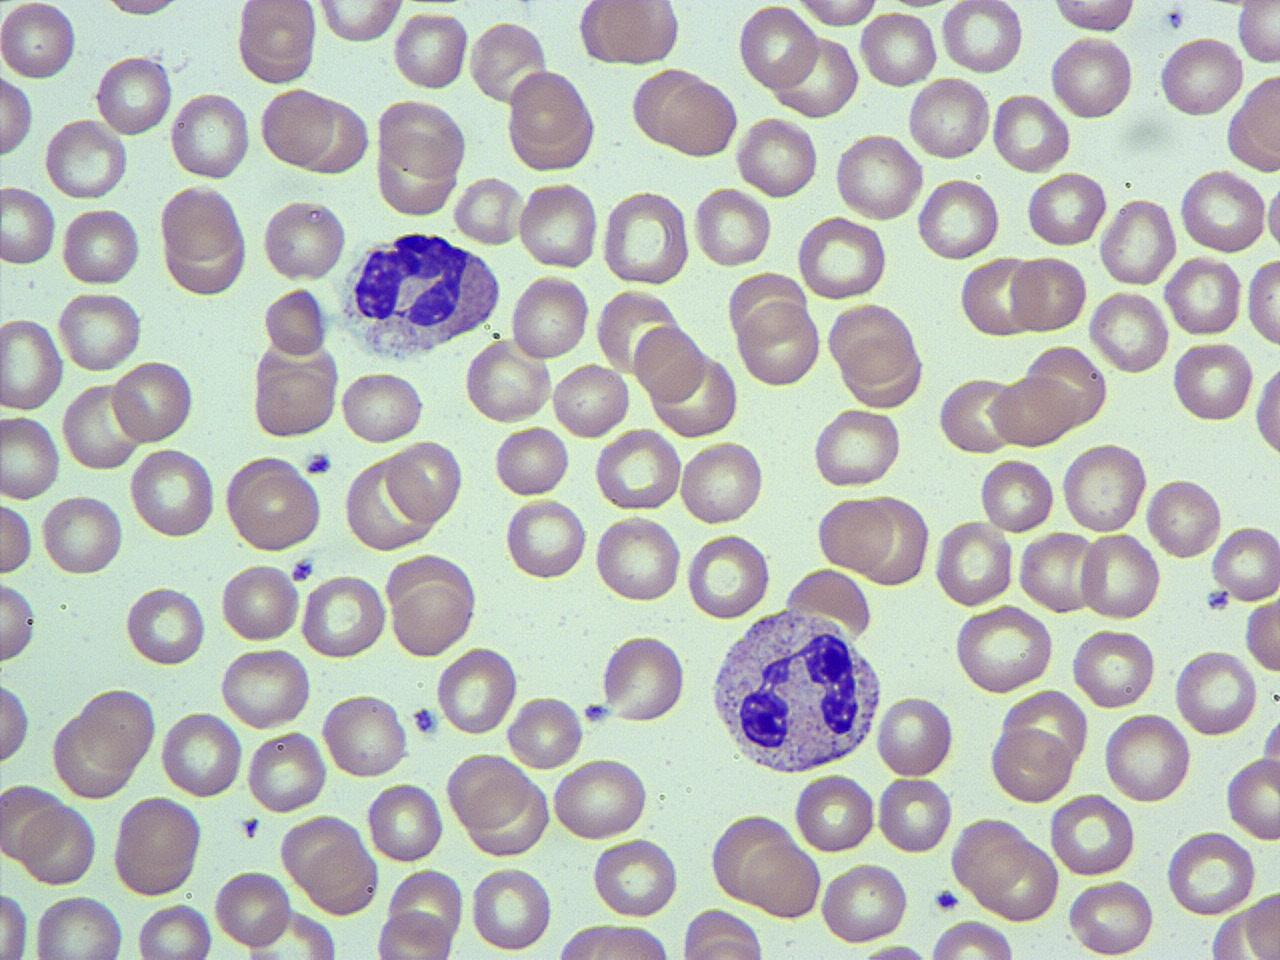Platelets: (410, 704, 440, 738), (303, 448, 335, 478), (1203, 586, 1233, 612), (1163, 4, 1189, 34), (932, 888, 961, 913), (581, 701, 610, 725), (290, 556, 316, 582)
RBC: (504, 68, 598, 171), (111, 794, 204, 898), (951, 604, 1055, 696), (225, 459, 323, 554), (601, 187, 691, 286), (1101, 710, 1195, 804), (1059, 439, 1151, 535), (592, 512, 685, 606), (831, 131, 925, 223), (550, 757, 651, 842), (49, 706, 138, 802), (794, 213, 890, 302), (676, 436, 766, 530), (128, 445, 217, 540), (600, 630, 688, 726), (818, 858, 910, 948), (969, 833, 1062, 922), (1079, 528, 1163, 626), (592, 425, 685, 513), (685, 529, 772, 623), (319, 690, 409, 780), (1172, 646, 1260, 738), (905, 72, 993, 164), (1164, 829, 1258, 915), (772, 30, 861, 120), (219, 644, 312, 730), (515, 178, 600, 272), (434, 644, 519, 738), (1179, 166, 1269, 254), (259, 196, 349, 284), (1048, 789, 1136, 879), (468, 862, 554, 954), (169, 88, 252, 183), (1097, 194, 1179, 290), (464, 337, 552, 426), (300, 571, 388, 660), (914, 174, 1002, 263), (109, 357, 196, 447), (39, 489, 125, 580), (736, 298, 822, 389), (375, 94, 467, 179), (508, 271, 592, 364), (811, 407, 905, 490), (1049, 33, 1137, 121), (736, 3, 821, 94), (1064, 875, 1156, 959), (1155, 33, 1245, 118), (708, 812, 792, 903), (461, 776, 554, 858), (933, 516, 1014, 610), (60, 378, 140, 473), (159, 708, 243, 798), (54, 289, 146, 371), (588, 836, 682, 916), (826, 300, 916, 383), (467, 17, 550, 107), (503, 496, 589, 582), (1170, 338, 1256, 424), (734, 113, 819, 200), (1016, 528, 1100, 616), (874, 692, 956, 782), (691, 183, 775, 270), (791, 770, 878, 854), (338, 367, 428, 448), (245, 727, 328, 814), (78, 683, 159, 772), (44, 117, 128, 202), (59, 203, 143, 288), (159, 180, 242, 266), (1071, 627, 1157, 710), (124, 582, 207, 668), (219, 558, 302, 644), (1088, 287, 1170, 374), (387, 578, 476, 658), (1144, 474, 1224, 563), (857, 490, 932, 584), (365, 778, 445, 866), (236, 1, 319, 85), (1008, 251, 1090, 336), (987, 724, 1073, 805), (1023, 168, 1109, 249), (1164, 252, 1244, 339), (959, 251, 1037, 340), (628, 64, 710, 148), (938, 372, 1020, 456), (858, 7, 940, 91), (212, 866, 293, 951), (95, 52, 175, 138), (19, 801, 98, 888), (985, 372, 1075, 448), (445, 748, 528, 830), (584, 0, 684, 68), (386, 439, 465, 525), (391, 8, 470, 93), (742, 837, 822, 920), (875, 772, 954, 856), (550, 360, 632, 440), (978, 453, 1057, 536), (1, 0, 79, 84), (253, 365, 339, 441), (992, 91, 1071, 173), (258, 85, 335, 169), (940, 0, 1025, 76), (0, 315, 65, 414), (662, 79, 740, 161), (30, 892, 125, 959), (505, 692, 584, 772), (816, 493, 894, 574), (632, 320, 707, 404), (305, 837, 382, 918), (1210, 521, 1280, 606), (492, 423, 570, 499), (0, 412, 62, 502), (450, 174, 526, 247), (261, 283, 330, 360), (0, 182, 58, 269), (678, 905, 768, 960), (132, 901, 214, 960), (550, 921, 675, 959), (248, 908, 340, 959), (1225, 756, 1279, 842), (372, 908, 452, 960), (314, 0, 406, 45), (1238, 70, 1280, 168), (925, 918, 1017, 960), (1209, 905, 1277, 960), (1244, 255, 1280, 350), (1242, 590, 1280, 678), (0, 578, 38, 666), (1250, 353, 1280, 464), (1048, 0, 1140, 34), (0, 69, 34, 157), (1234, 1, 1280, 66), (0, 677, 31, 768), (794, 0, 884, 30), (1243, 890, 1280, 958), (0, 500, 33, 576), (0, 886, 29, 960), (98, 0, 189, 22)
WBC: (704, 604, 886, 778), (336, 223, 505, 363)
